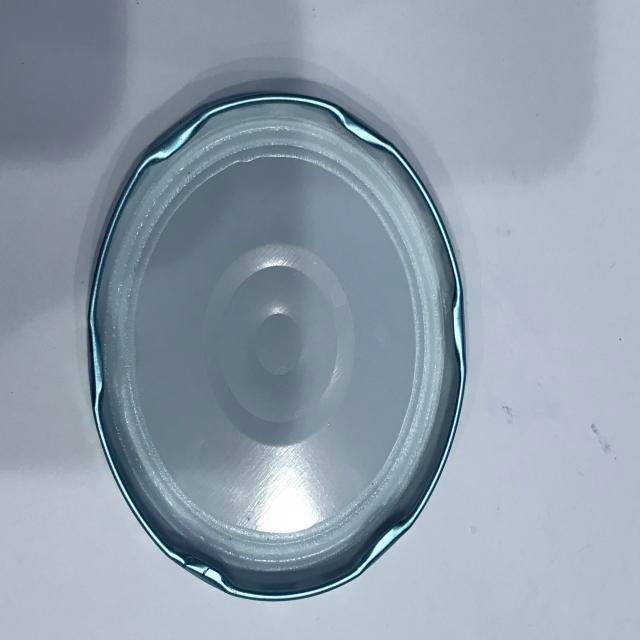metal: (81, 66, 479, 603)
